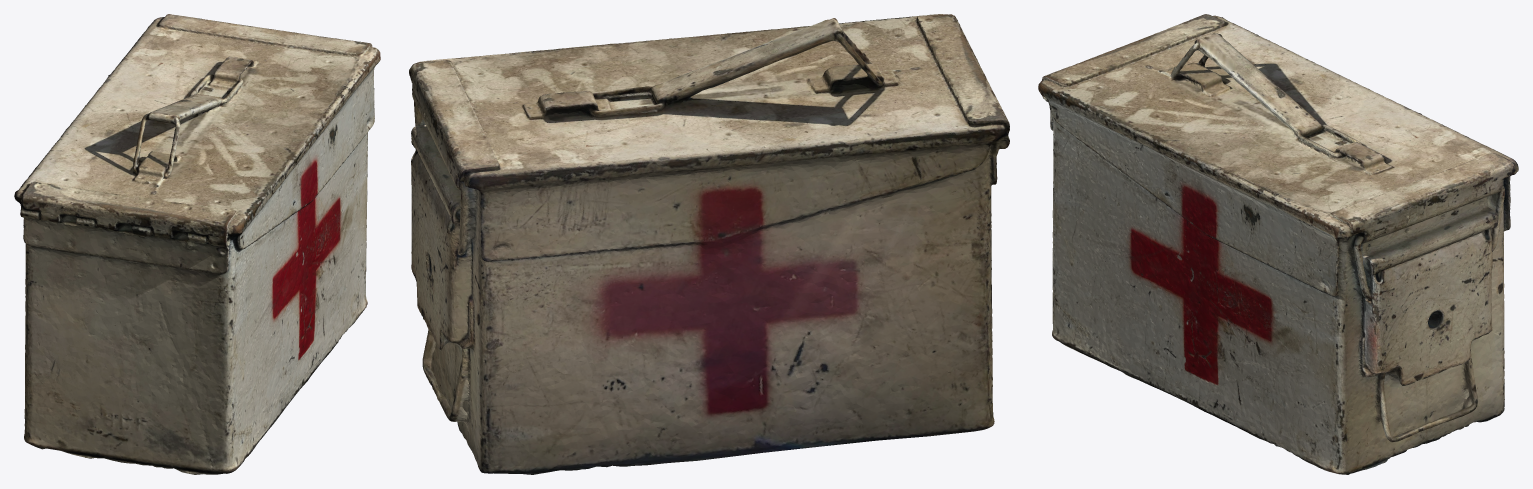
File: trusa.fbx
The picture shows the model from 3 angles, left to right: view 1: azimuth 30°, elevation 25°; view 2: azimuth 150°, elevation 25°; view 3: azimuth 270°, elevation 25°; orthographic projection. The views are drawn at different scales.
Size of the model in its own units: 0.3239 by 0.2226 by 0.3122.
1 material, 1 textured.
